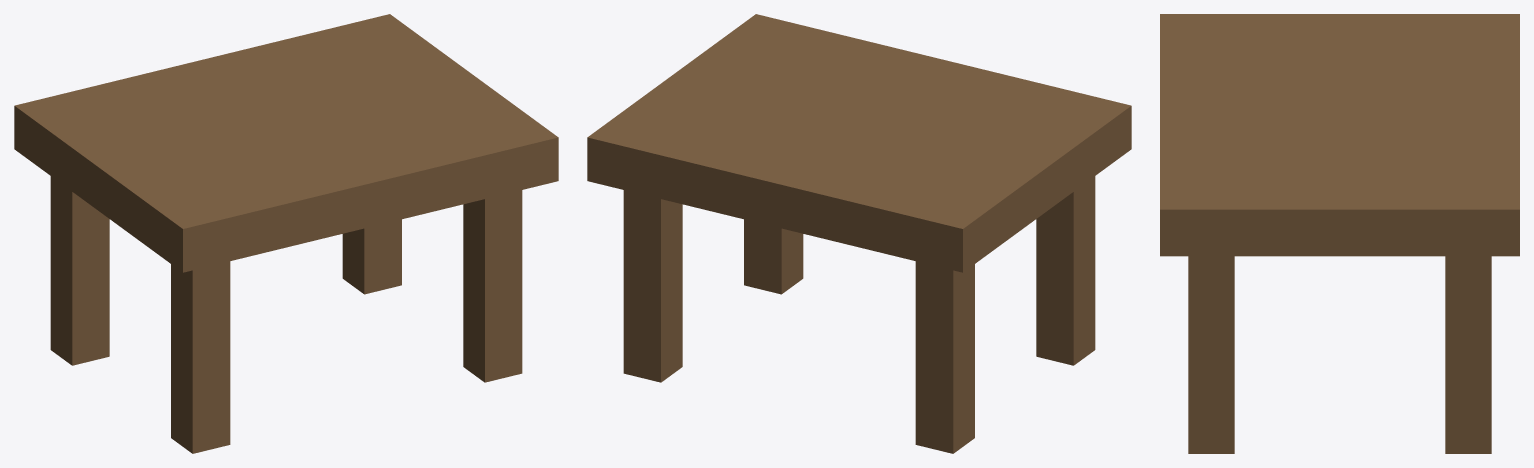
Rendered from table-closed.glb.
The picture shows the model from 3 angles, left to right: view 1: azimuth 30°, elevation 25°; view 2: azimuth 150°, elevation 25°; view 3: azimuth 270°, elevation 25°; orthographic projection. The views are drawn at different scales.
Parts seen in each view (by area): view 1: table-closed; view 2: table-closed; view 3: table-closed.
Boxes of the visible parts, bbox=[...] form: table-closed: bbox=[14, 14, 558, 453]; table-closed: bbox=[587, 14, 1131, 453]; table-closed: bbox=[1160, 14, 1519, 453].
Bounding box in the file's own units: 0.9 × 0.55 × 0.7.
